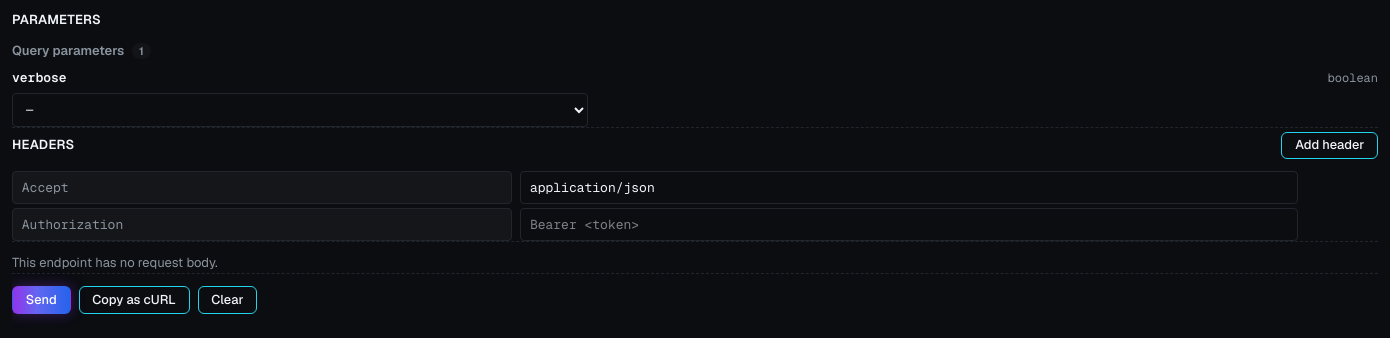
Test: TryItOutForm › resets form inputs when Clear is clicked
Select "true" in the dropdown labelled "verbose" at (300, 110), box [12,93,588,127]
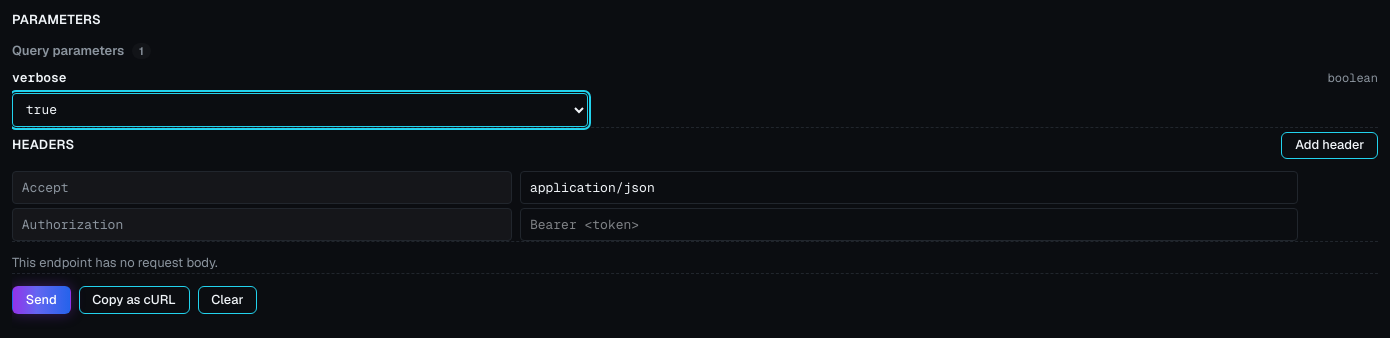
Type "Bearer secret" into the field named "Authorization Value".
click(909, 225); type("Bearer secret")  # box [520,208,1298,241]
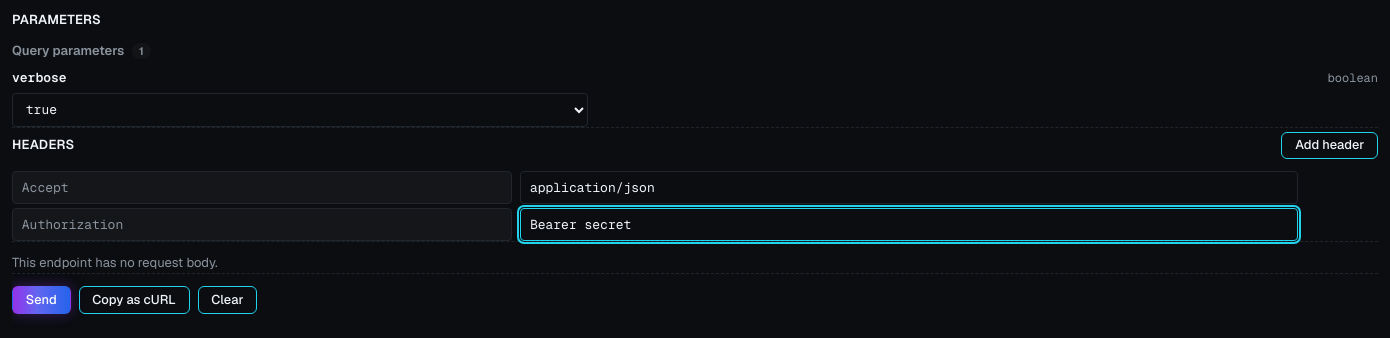
Click the button "Clear".
click(227, 300)  # box [198,286,257,314]
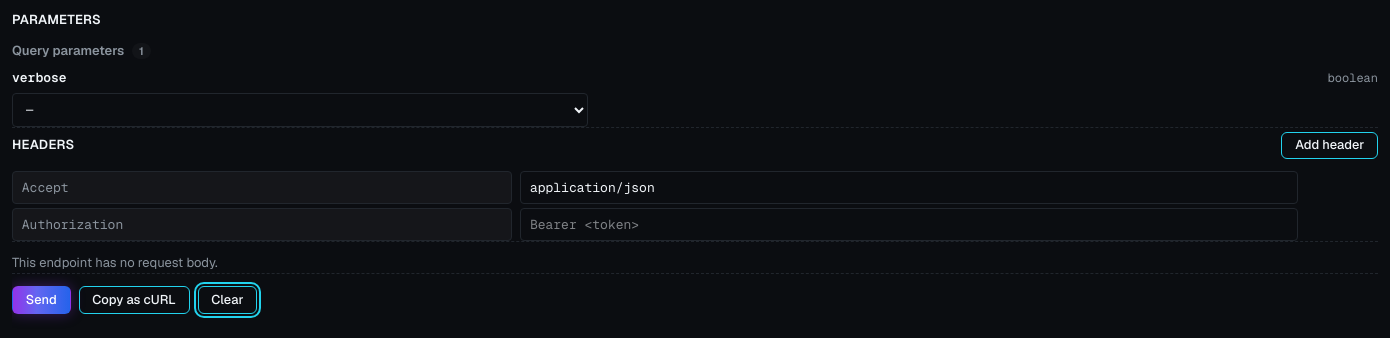
Expected: the field named "Authorization Value" is empty, [520,208,1298,241]
